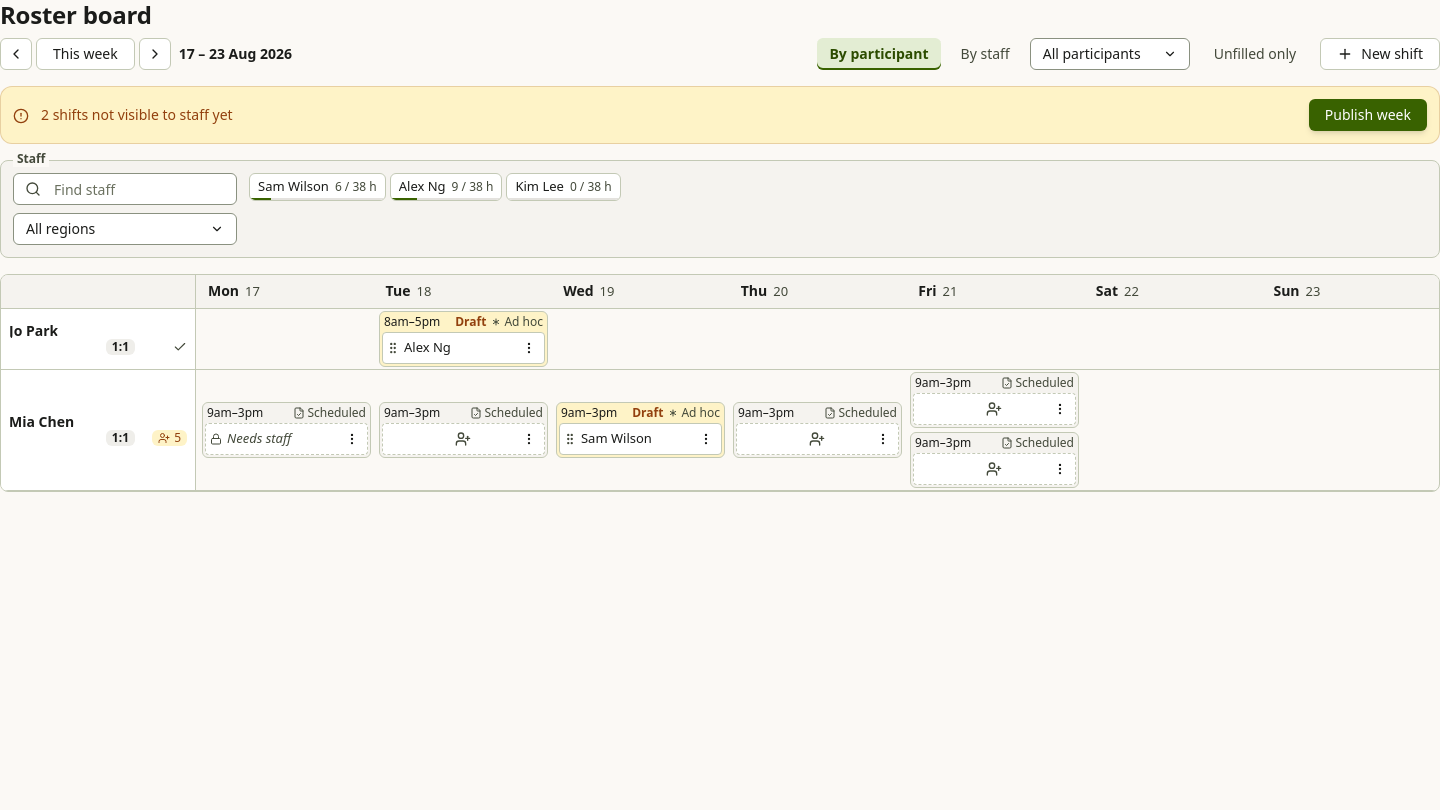
Scenario: RosterBoardPage: a pick is a drop without the drag › shows any other refusal in today's error Callout, in the server's words
Click the button named "Assign someone to Tuesday 9am to 3pm for Mia".
click(450, 438)  # box top-left (382, 422), bottom-right (517, 454)
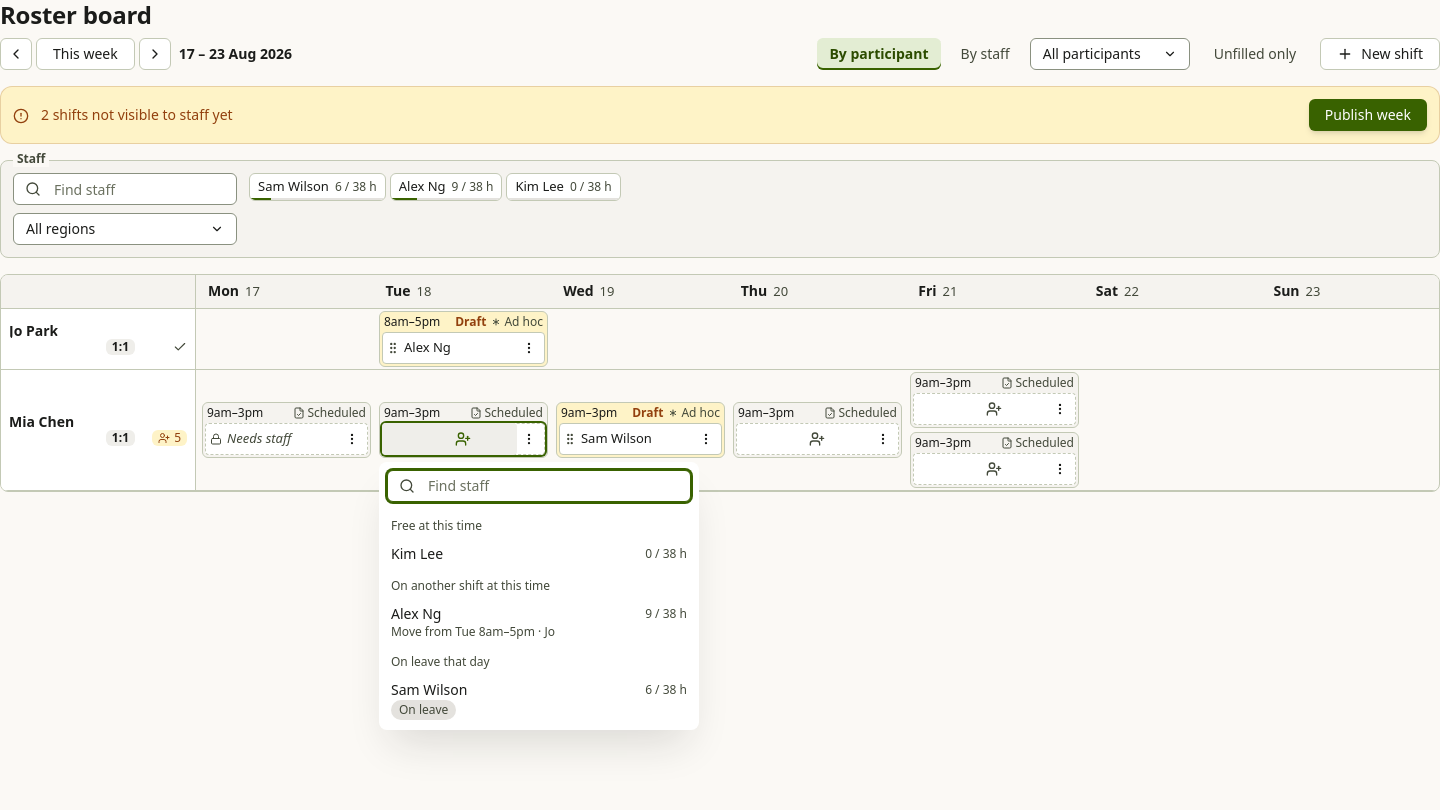
Click the option "Kim Lee 0 / 38 h".
click(417, 553)  # box top-left (391, 544), bottom-right (687, 562)
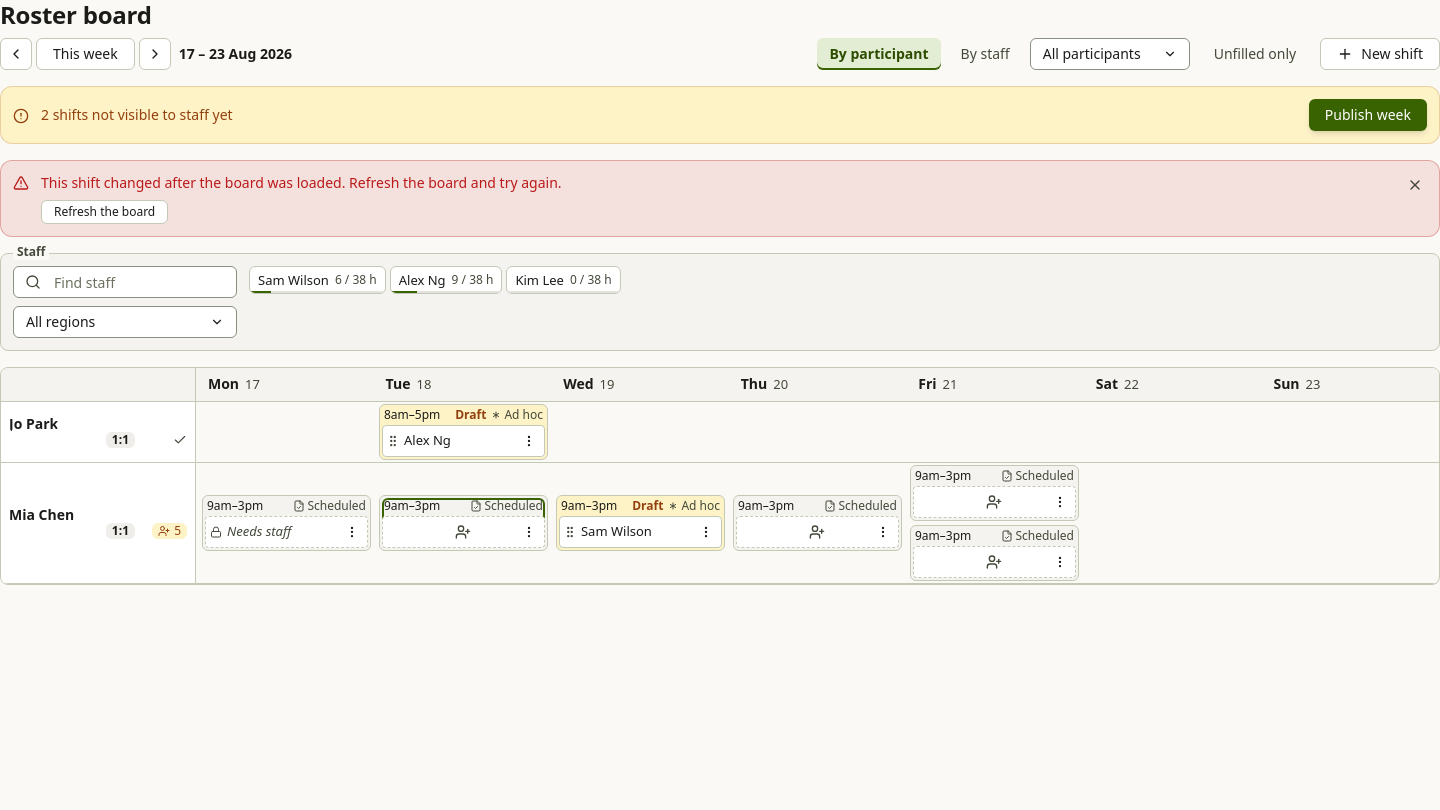
Result: the text "This shift changed after the board was loaded. Refresh the board and try again." is shown at top-left (41, 173), bottom-right (562, 192)
